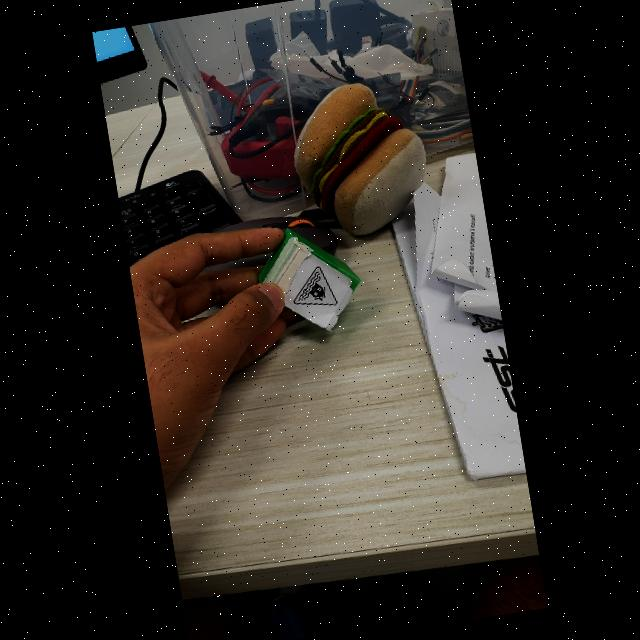Tsunami: (294, 267, 337, 305)
